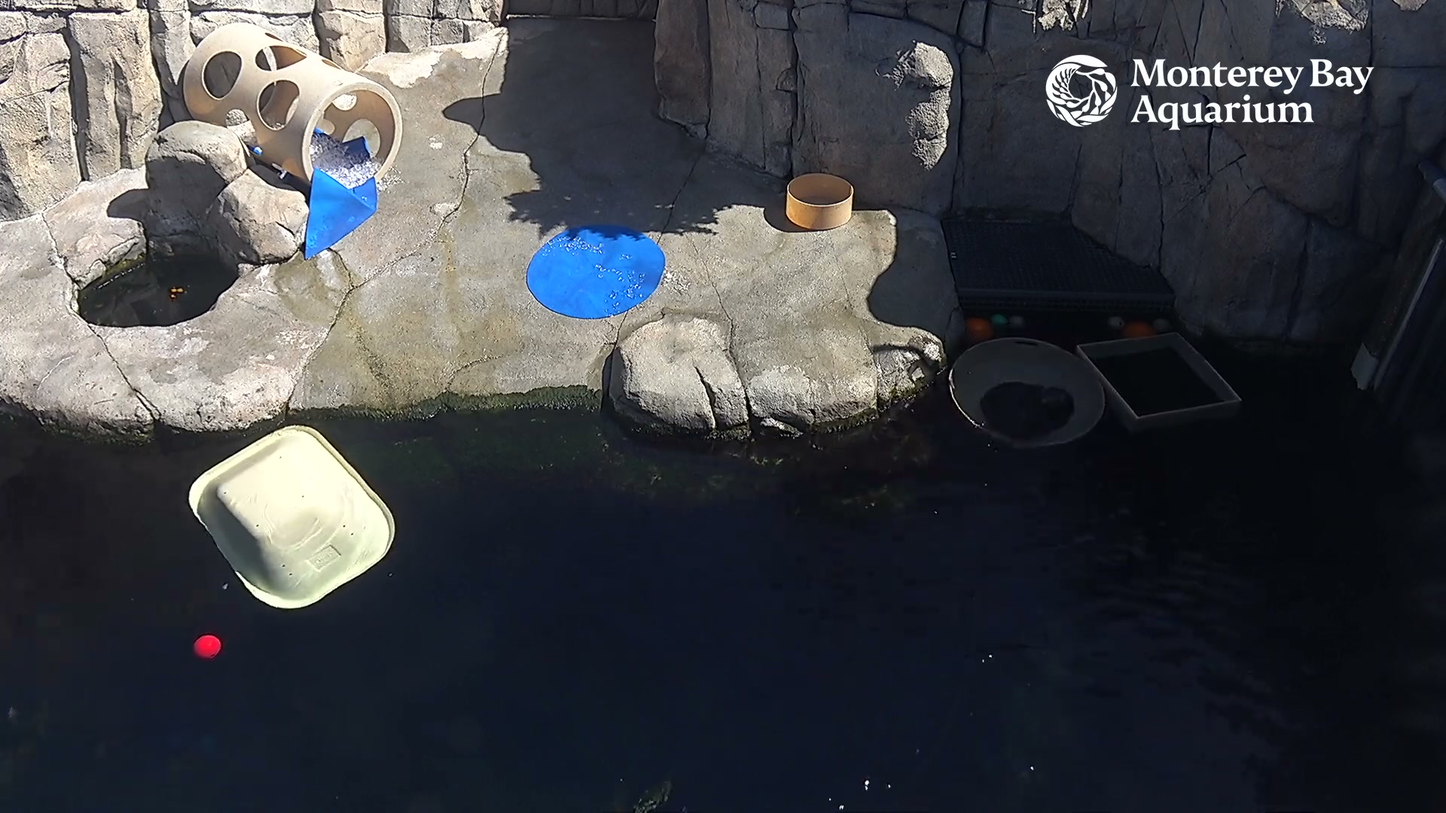Southern Sea Otter: (1008, 372, 1093, 434)
